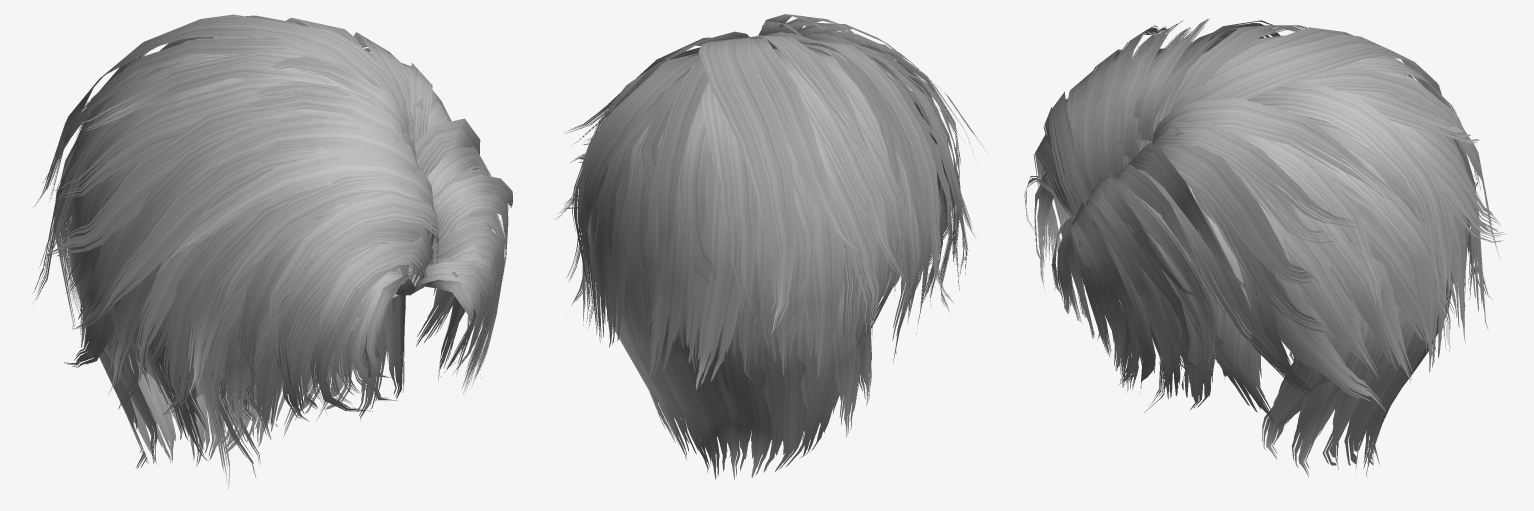
The model's file is shorthair.glb.
3 renders of one model, left to right at view 1: azimuth 30°, elevation 25°; view 2: azimuth 150°, elevation 25°; view 3: azimuth 270°, elevation 25°, orthographic. The views are drawn at different scales.
Parts seen in each view (by area): view 1: Object_7; view 2: Object_7; view 3: Object_7.
Boxes of the visible parts, x1=… form: Object_7: x1=32, y1=14, x2=512, y2=488; Object_7: x1=555, y1=14, x2=985, y2=479; Object_7: x1=1024, y1=18, x2=1505, y2=477.
Bounding box in the file's own units: 0.00281 × 0.00307 × 0.003.
Materials: 2 (2 with a texture image).
